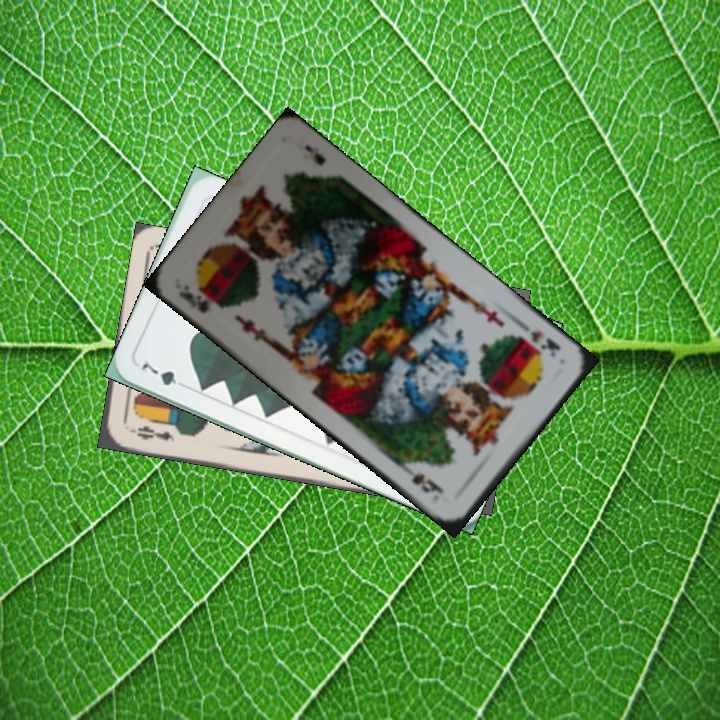EO: (125, 421, 177, 445)
G7: (136, 358, 191, 391)
SK: (515, 318, 563, 360), (174, 280, 225, 316)
